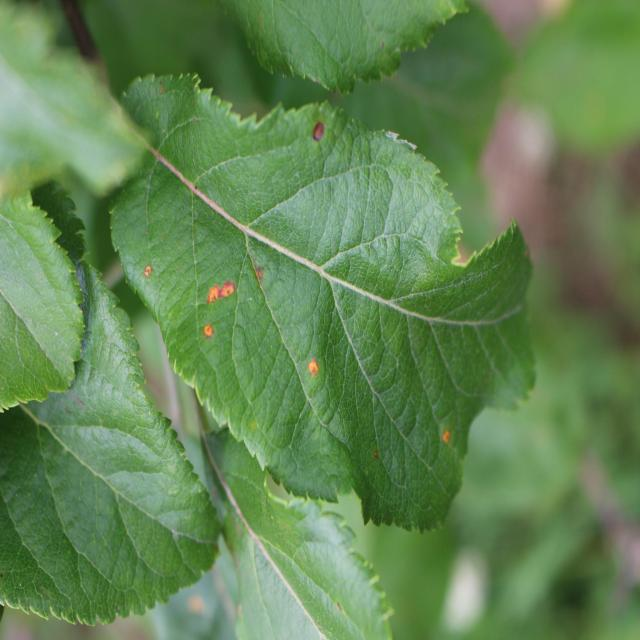Rust: (216, 280, 238, 300), (204, 282, 222, 306), (251, 261, 267, 288), (304, 357, 322, 380), (440, 422, 453, 452), (311, 119, 326, 143), (140, 261, 153, 283), (202, 319, 213, 345)
